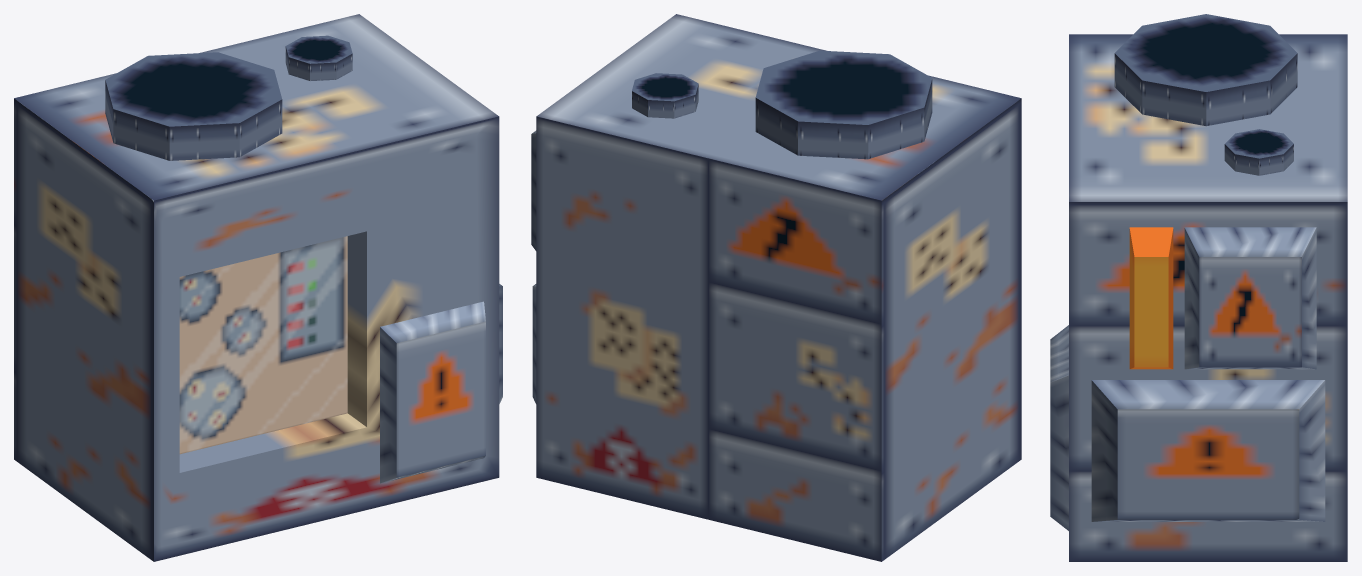
Rendered from Tubulacao quadrada.v1.fbx.
The picture shows the model from 3 angles, left to right: view 1: azimuth 30°, elevation 25°; view 2: azimuth 150°, elevation 25°; view 3: azimuth 270°, elevation 25°; orthographic projection.
Visible parts, largest first — view 1: Tubulaçao quadrada; view 2: Tubulaçao quadrada; view 3: Tubulaçao quadrada.
Part boxes in pixels (x1,y1,x2,y2): Tubulaçao quadrada: (14, 14, 502, 561); Tubulaçao quadrada: (531, 14, 1021, 561); Tubulaçao quadrada: (1050, 14, 1347, 561).
Bounding box in the file's own units: 81.87 × 56.75 × 82.89.
